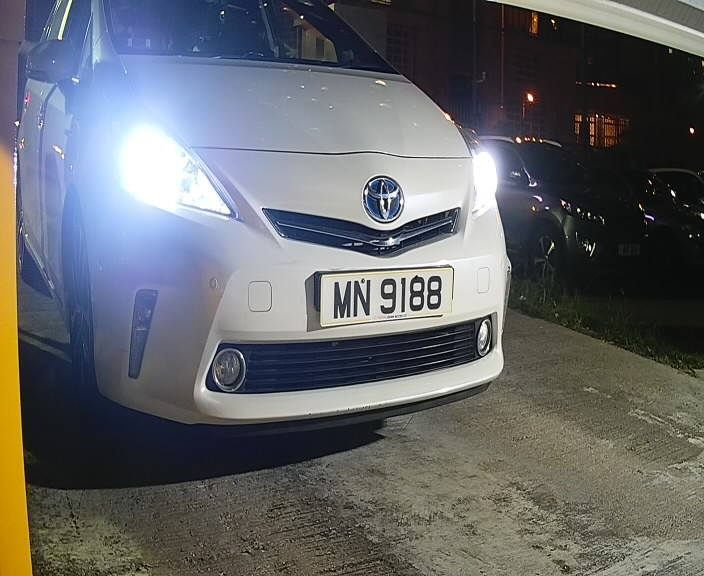Car: (2, 14, 531, 443)
License Plate: (309, 256, 467, 338)
